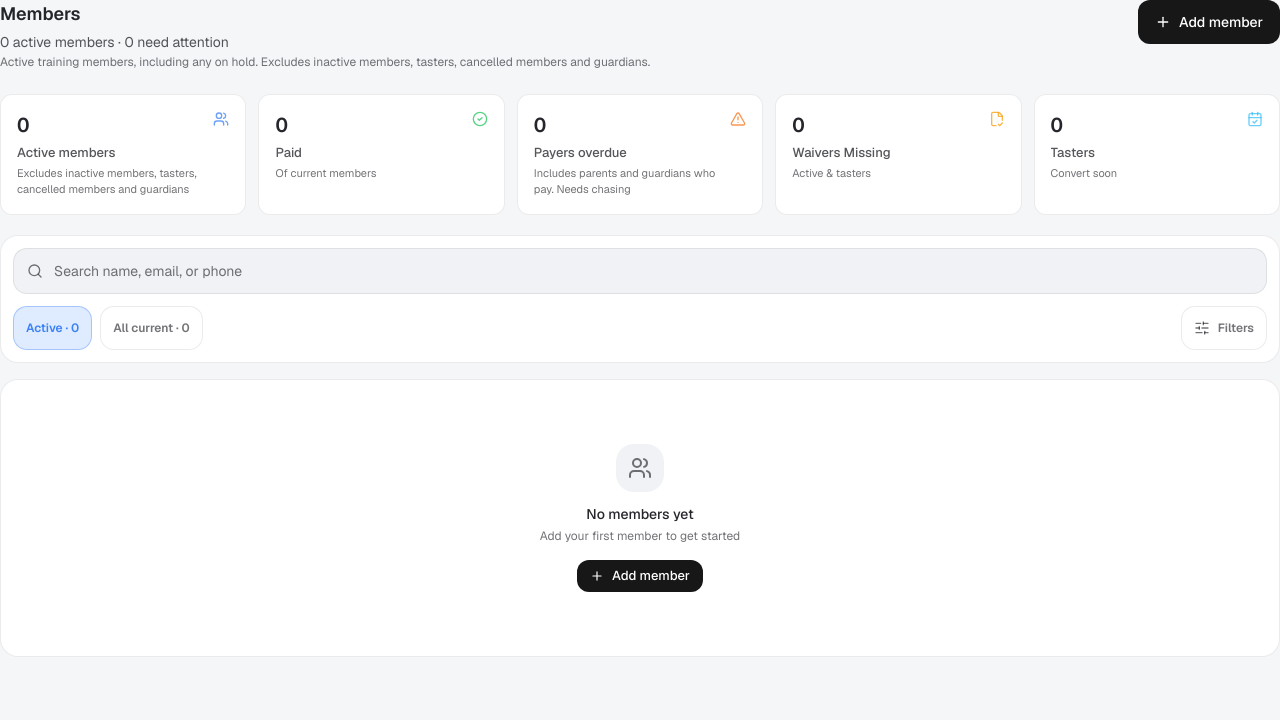
it: add-member membership dropdown › renders the tenant's own tiers, not a hardcoded list
Click the button "Add member" in the row of "need attention".
click(1209, 22)  # box [1138,0,1279,44]
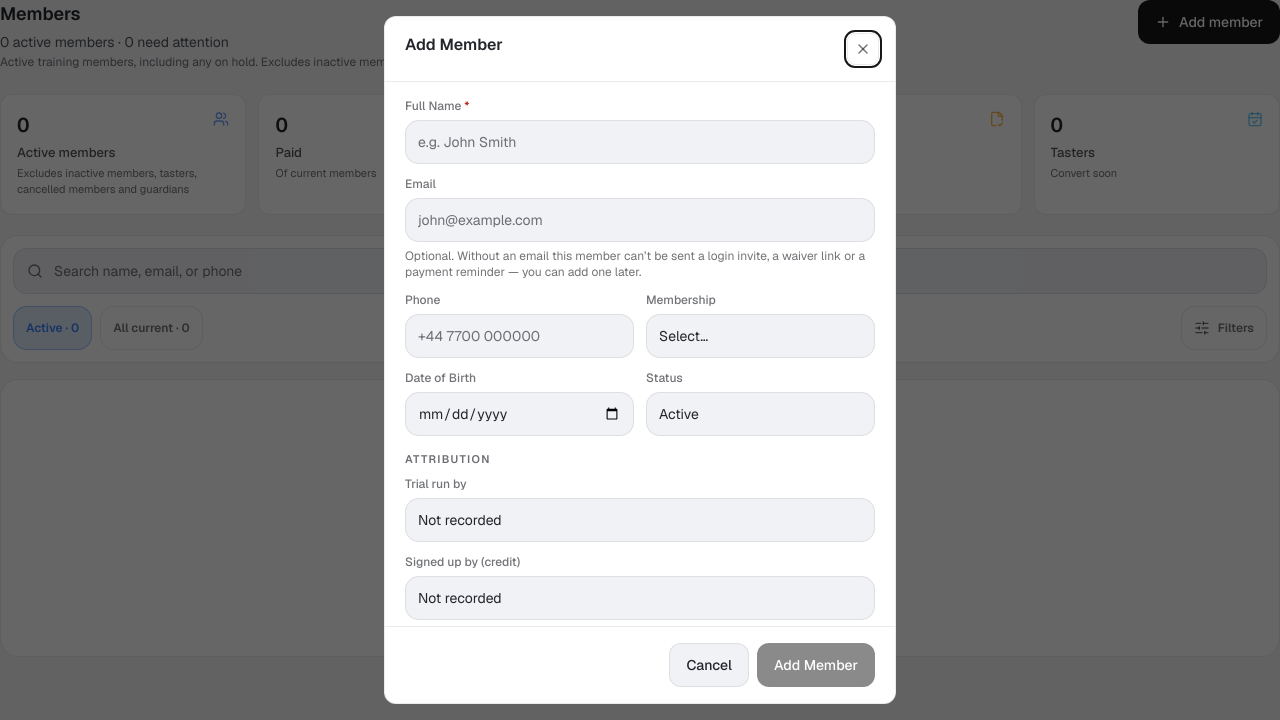
Expected: the dropdown named "membership" is shown, [646,314,875,358]
